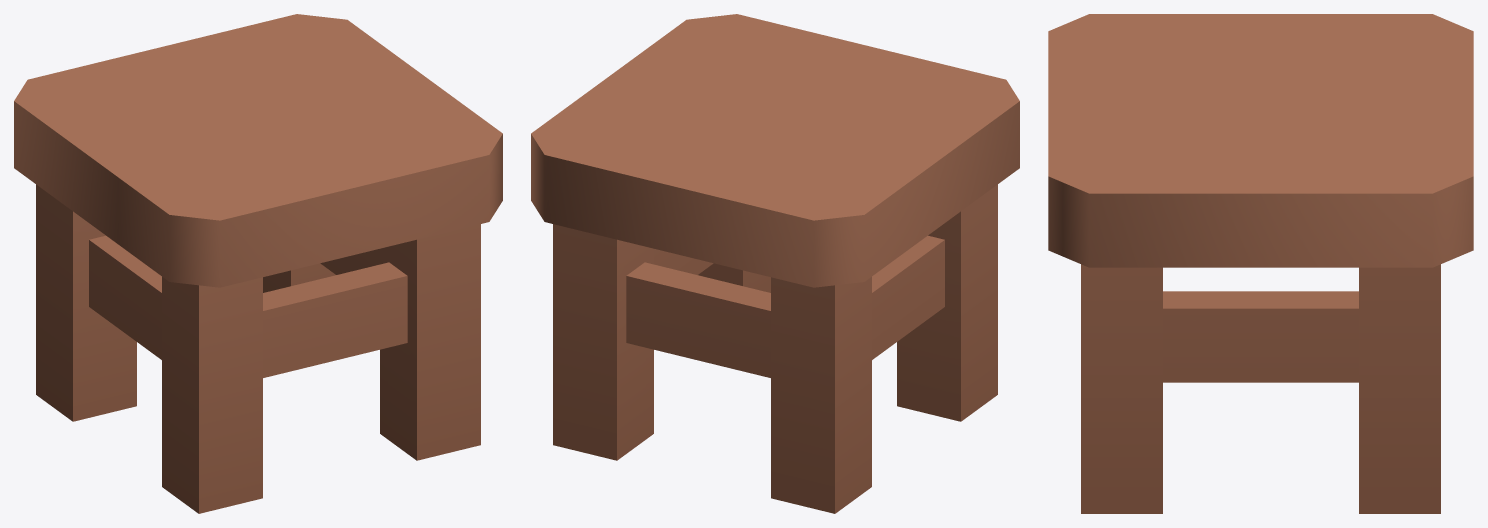
The model's file is stall-stool.glb.
The picture shows the model from 3 angles, left to right: view 1: azimuth 30°, elevation 25°; view 2: azimuth 150°, elevation 25°; view 3: azimuth 270°, elevation 25°; orthographic projection. The views are drawn at different scales.
Visible parts, largest first — view 1: stall-stool; view 2: stall-stool; view 3: stall-stool.
Boxes of the visible parts, left/top/right/bottom form: stall-stool: left=14, top=14, right=502, bottom=513; stall-stool: left=531, top=14, right=1019, bottom=513; stall-stool: left=1048, top=14, right=1473, bottom=513.
Size of the model in its own units: 0.26 by 0.2255 by 0.26.
